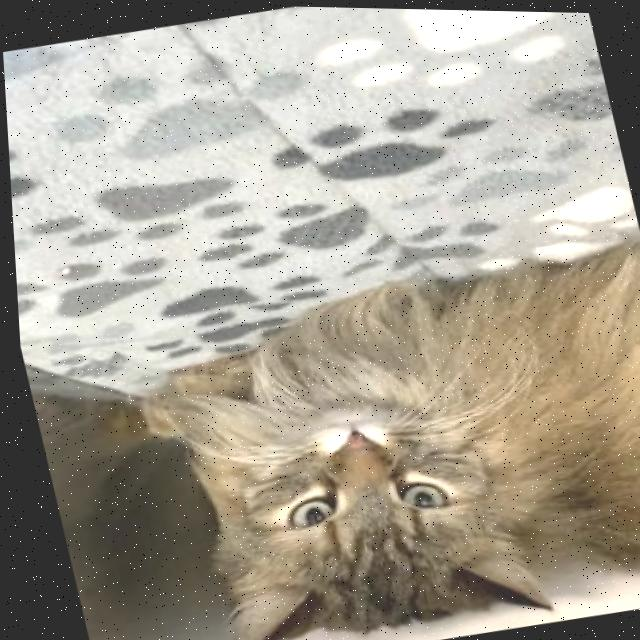Maine Coon: (107, 221, 640, 640)
